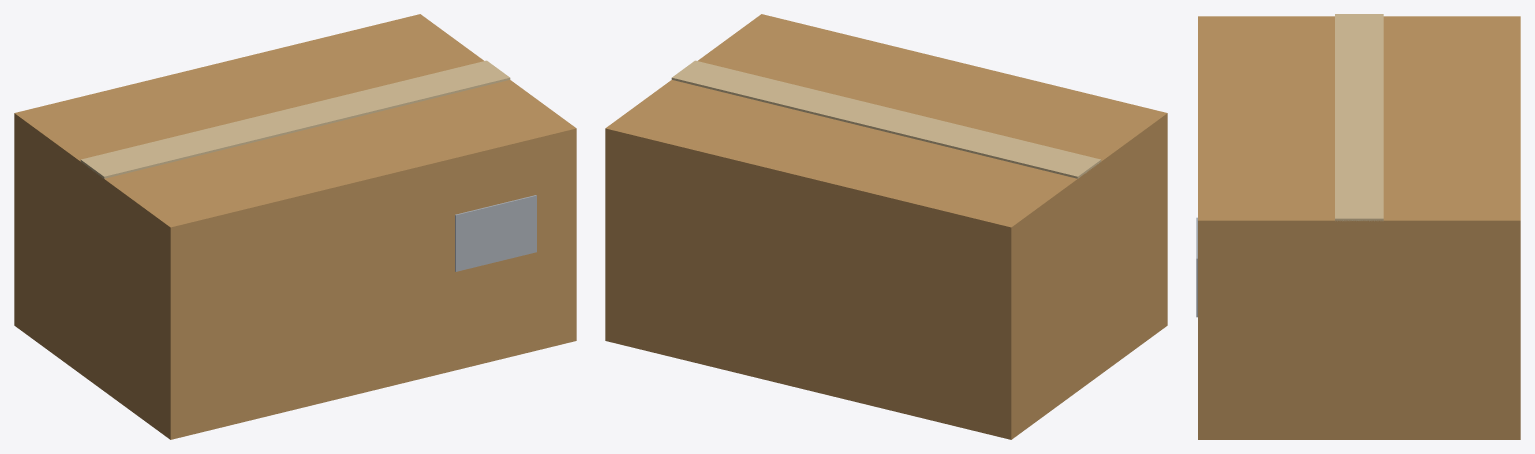
Rendered from pack_box.glb.
The picture shows the model from 3 angles, left to right: view 1: azimuth 30°, elevation 25°; view 2: azimuth 150°, elevation 25°; view 3: azimuth 270°, elevation 25°; orthographic projection. The views are drawn at different scales.
Parts seen in each view (by area): view 1: Pack_Box_600x400_carton_brown, Pack_Box_600x400_carton_tape, Pack_Box_600x400_sheet_grey; view 2: Pack_Box_600x400_carton_brown, Pack_Box_600x400_carton_tape; view 3: Pack_Box_600x400_carton_brown, Pack_Box_600x400_carton_tape.
Boxes of the visible parts, bbox=[...] form: Pack_Box_600x400_carton_brown: bbox=[14, 14, 576, 439]; Pack_Box_600x400_carton_tape: bbox=[80, 60, 510, 178]; Pack_Box_600x400_sheet_grey: bbox=[455, 195, 536, 271]; Pack_Box_600x400_carton_brown: bbox=[605, 14, 1167, 439]; Pack_Box_600x400_carton_tape: bbox=[671, 60, 1101, 178]; Pack_Box_600x400_carton_brown: bbox=[1198, 16, 1520, 439]; Pack_Box_600x400_carton_tape: bbox=[1335, 14, 1383, 221].
Bounding box in the file's own units: 0.6 × 0.303 × 0.402.
